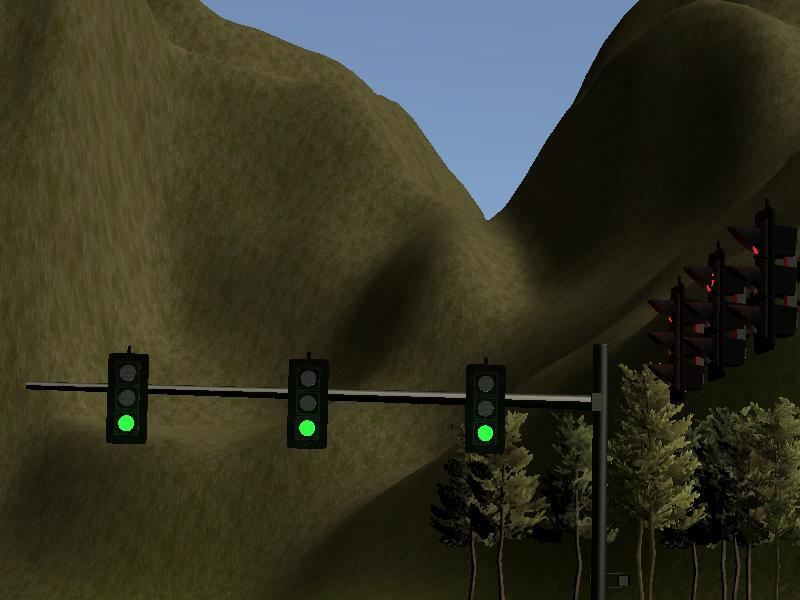Green: (466, 367, 505, 456), (290, 359, 327, 449), (110, 354, 145, 442)
